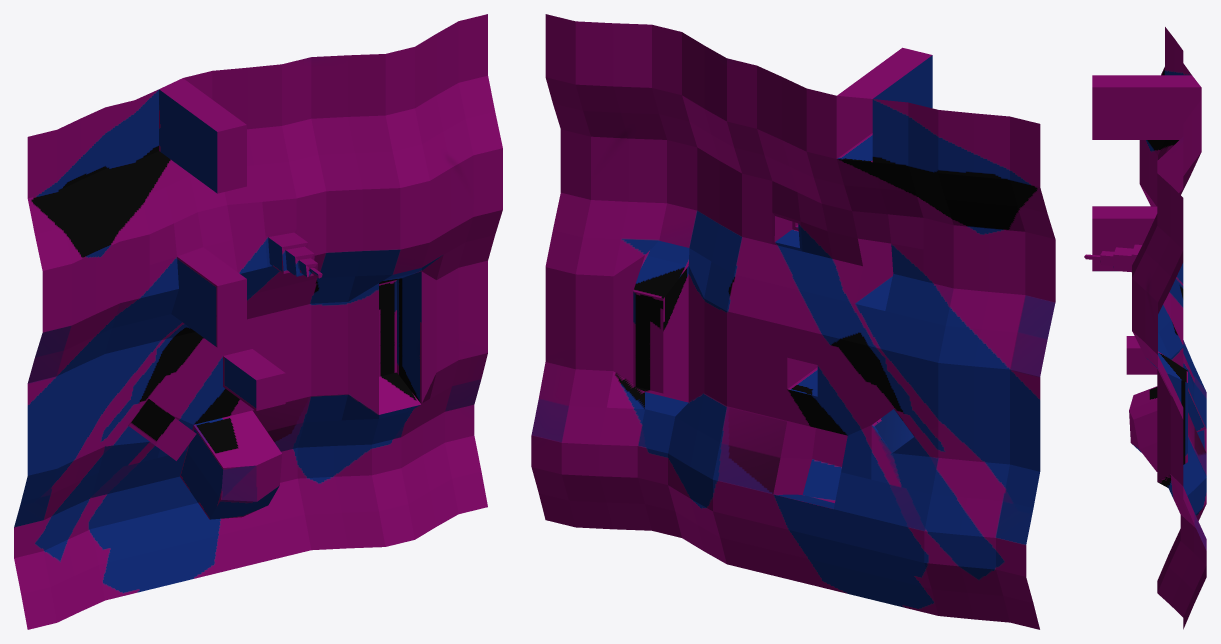
3 views of the same model, side by side, from view 1: azimuth 30°, elevation 25°; view 2: azimuth 150°, elevation 25°; view 3: azimuth 270°, elevation 25° (orthographic). The views are drawn at different scales.
Parts seen in each view (by area): view 1: Plane; view 2: Plane; view 3: Plane.
Boxes of the visible parts, x1=… form: Plane: x1=14, y1=14, x2=502, y2=629; Plane: x1=531, y1=14, x2=1055, y2=629; Plane: x1=1084, y1=27, x2=1206, y2=629.
Bounding box in the file's own units: 16 × 16 × 4.22.
1 material, 1 textured.
